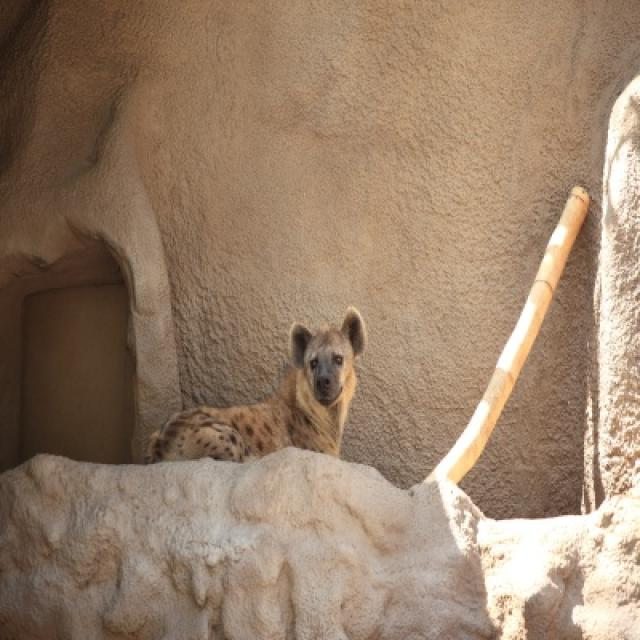hyena: (149, 310, 365, 464)
